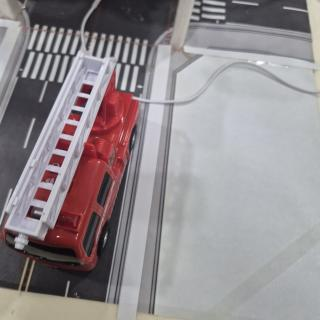Fire_truck: (1, 52, 140, 270)
